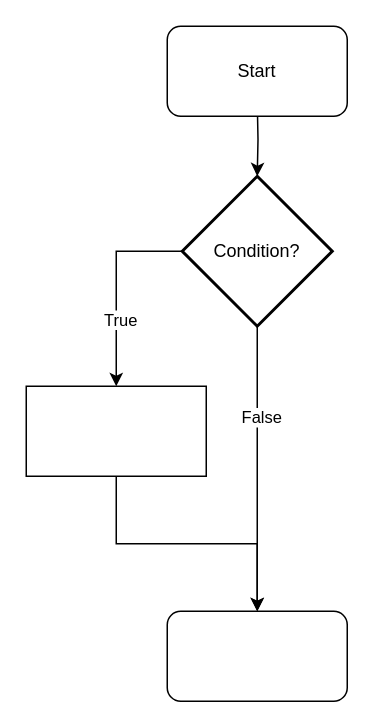
Image size: 374x728. Some labels were removed from this diagram. The box of each missing label's shape, as (x1, y1, x2, y2) in pixels:
Done: (166, 610, 347, 701)
Run this code: (25, 385, 206, 476)
